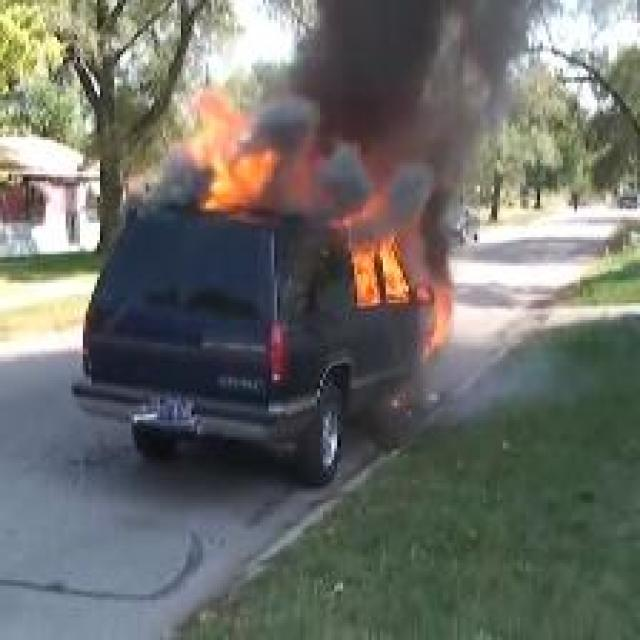Fire: (191, 93, 280, 216), (344, 186, 412, 303), (420, 280, 454, 349)
